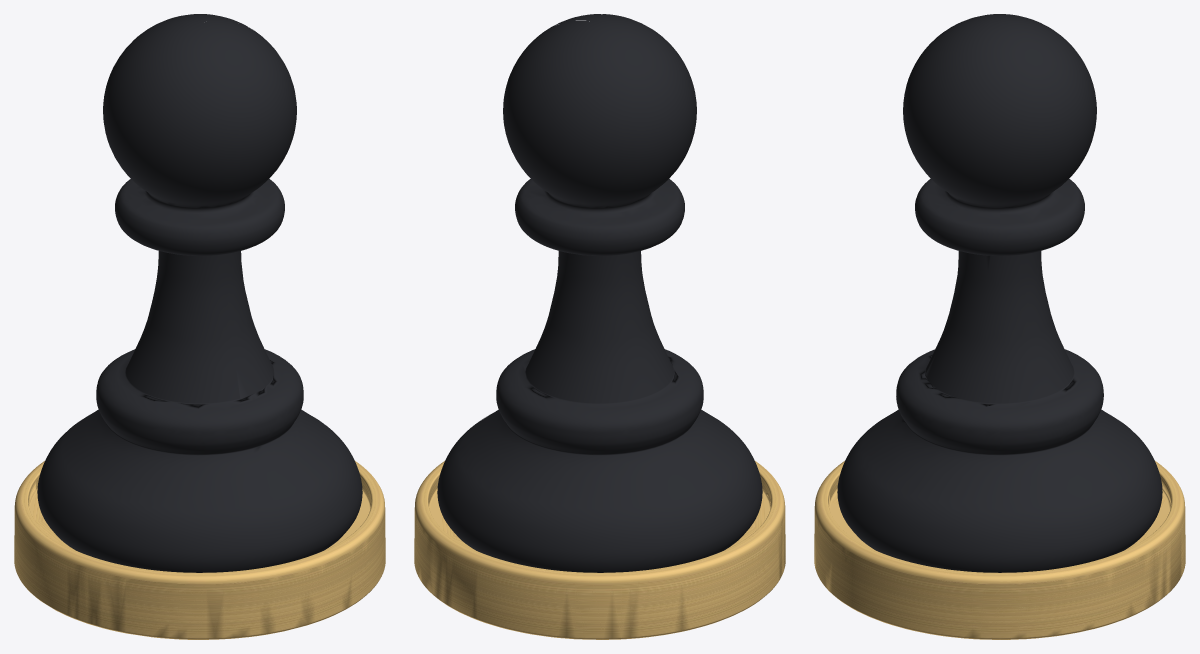
Rendered from pawn-black-hd.glb.
3 views of the same model, side by side, from view 1: azimuth 30°, elevation 25°; view 2: azimuth 150°, elevation 25°; view 3: azimuth 270°, elevation 25° (orthographic).
Visible parts, largest first — view 1: Aurum Noir – Pawn; view 2: Aurum Noir – Pawn; view 3: Aurum Noir – Pawn.
Boxes of the visible parts, x1,y1,x2,y2 form: Aurum Noir – Pawn: (14,14,385,639); Aurum Noir – Pawn: (414,14,785,639); Aurum Noir – Pawn: (814,14,1185,639).
Bounding box in the file's own units: 0.5995 × 0.96 × 0.5995.
2 materials, 1 textured.
